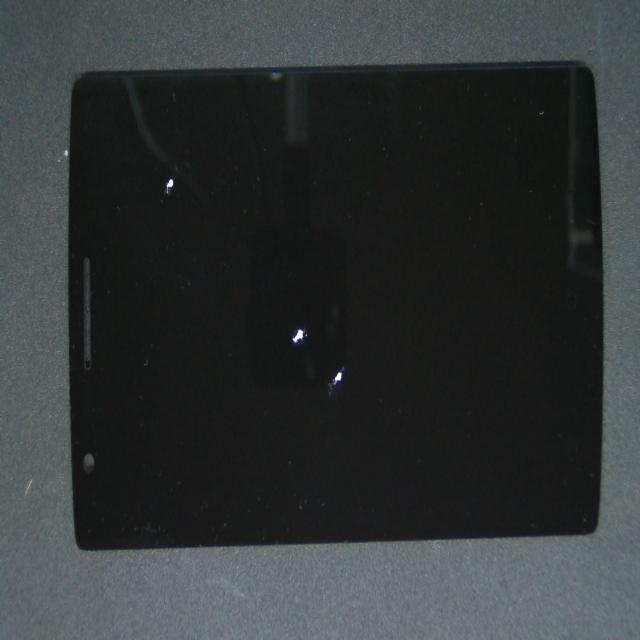stain: (187, 180, 513, 527), (167, 140, 444, 476), (49, 120, 262, 311)
